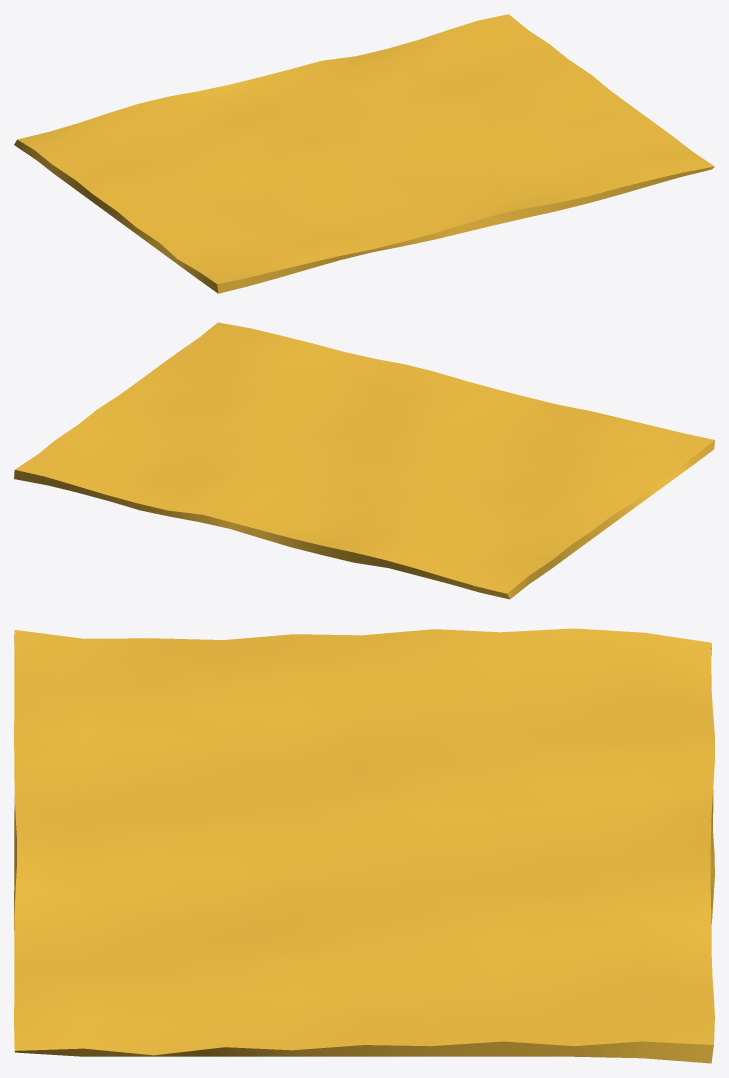
Rendered from Cheese.fbx.
3 renders of one model, top to bottom at view 1: azimuth 30°, elevation 25°; view 2: azimuth 150°, elevation 25°; view 3: azimuth 270°, elevation 25°, orthographic. The views are drawn at different scales.
Visible parts, largest first — view 1: Cheese_slice; view 2: Cheese_slice; view 3: Cheese_slice.
Boxes of the visible parts, <box> form: Cheese_slice: <box>14,14,714,293</box>; Cheese_slice: <box>14,322,714,599</box>; Cheese_slice: <box>14,628,714,1063</box>.
Bounding box in the file's own units: 16.55 × 0.3989 × 11.76.
